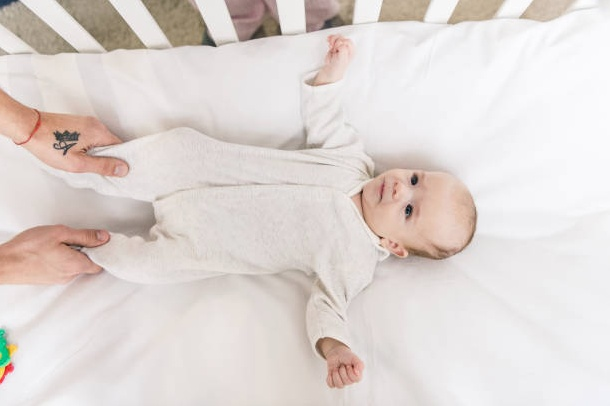baby: (58, 36, 475, 387)
crib: (0, 0, 609, 405)
